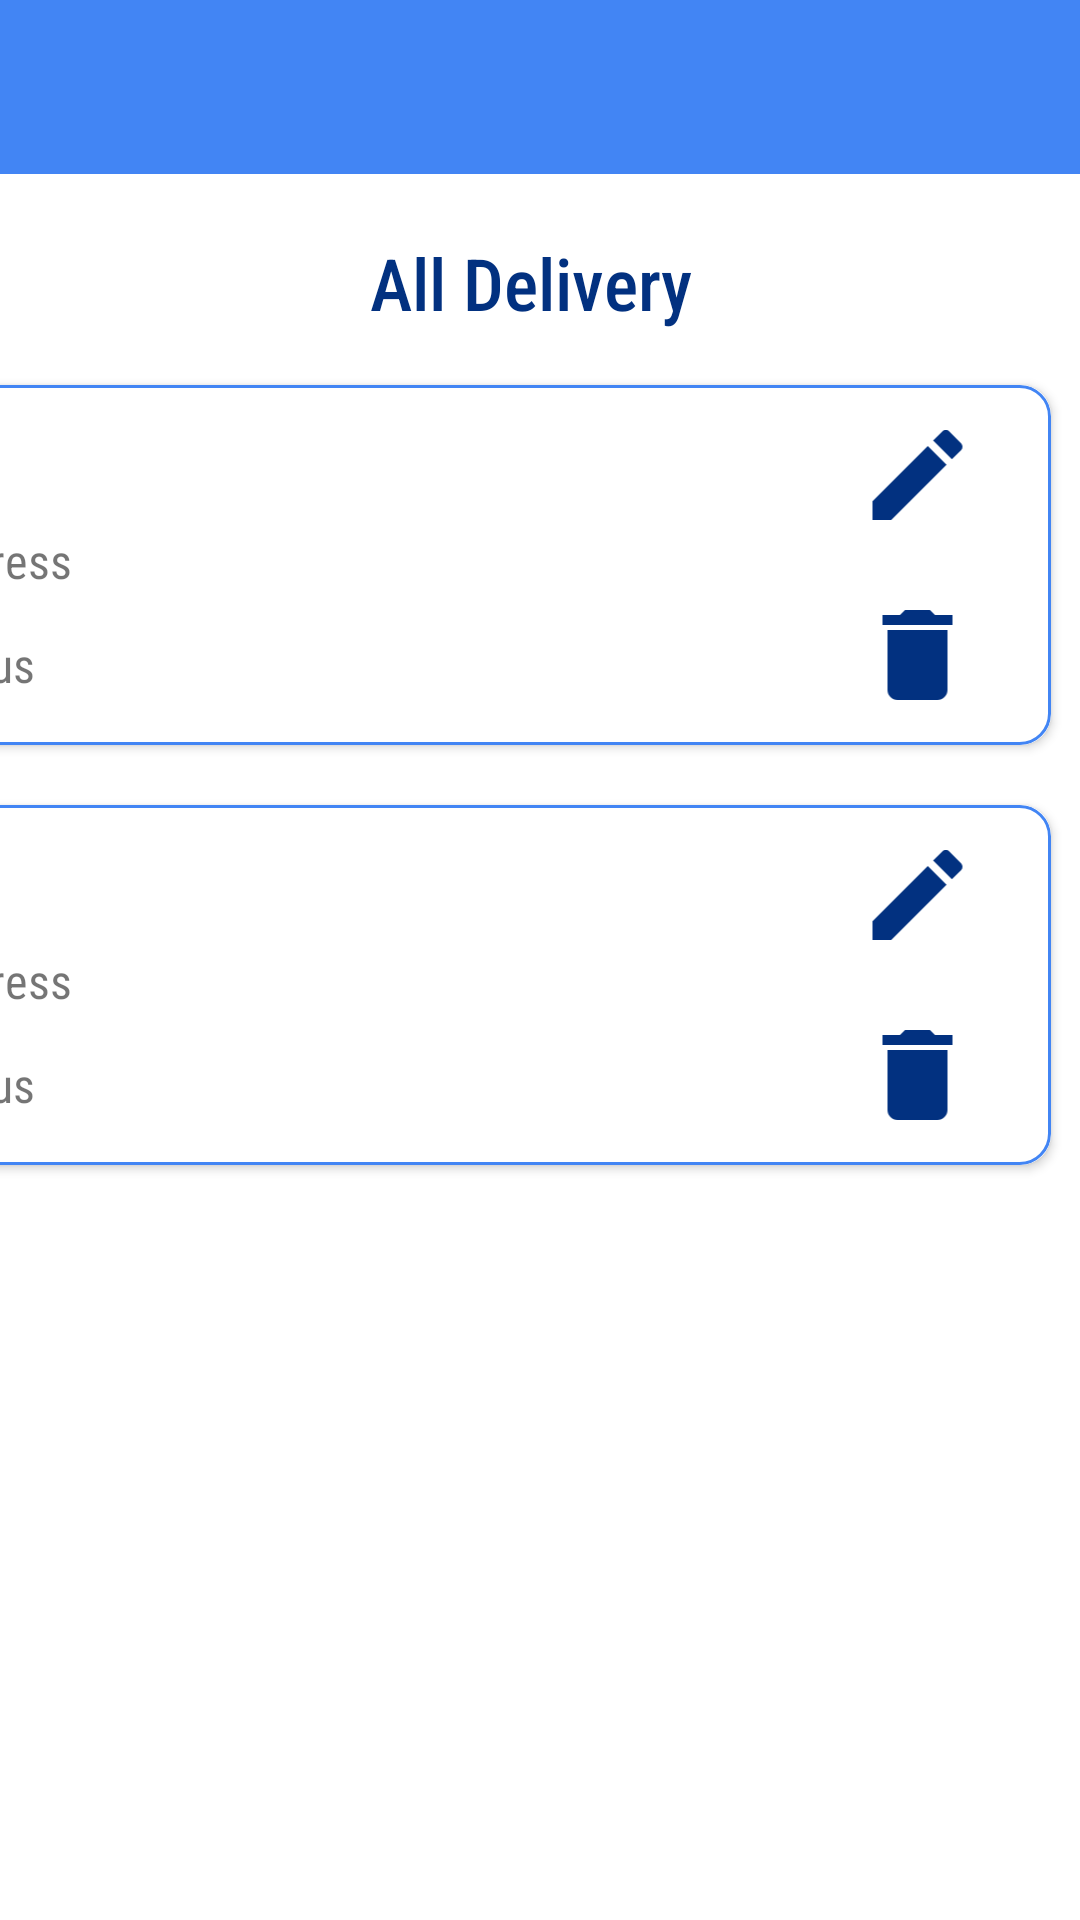

Where icons sit on this 1080px×1920px app screen, as [x1, y1, x2, y2]:
delete: [882, 610, 953, 700], [882, 1030, 953, 1120]
edit: [872, 430, 963, 520], [872, 850, 963, 940]
